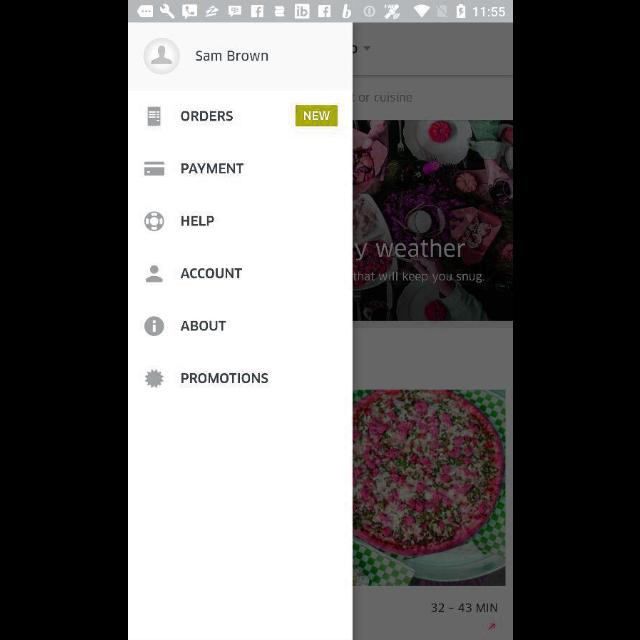icon: (144, 38, 180, 76), (144, 316, 164, 336), (145, 266, 163, 282), (144, 162, 164, 176), (147, 107, 161, 127)
image: (144, 212, 164, 232), (144, 369, 164, 388)
panel: (128, 24, 352, 640)
text: (180, 373, 268, 385), (196, 51, 268, 63), (180, 268, 242, 280), (181, 163, 243, 175), (180, 111, 233, 123), (180, 320, 226, 332), (181, 216, 215, 228)
textbutton: (295, 105, 337, 127)
uppertaskbar: (128, 1, 512, 23)
